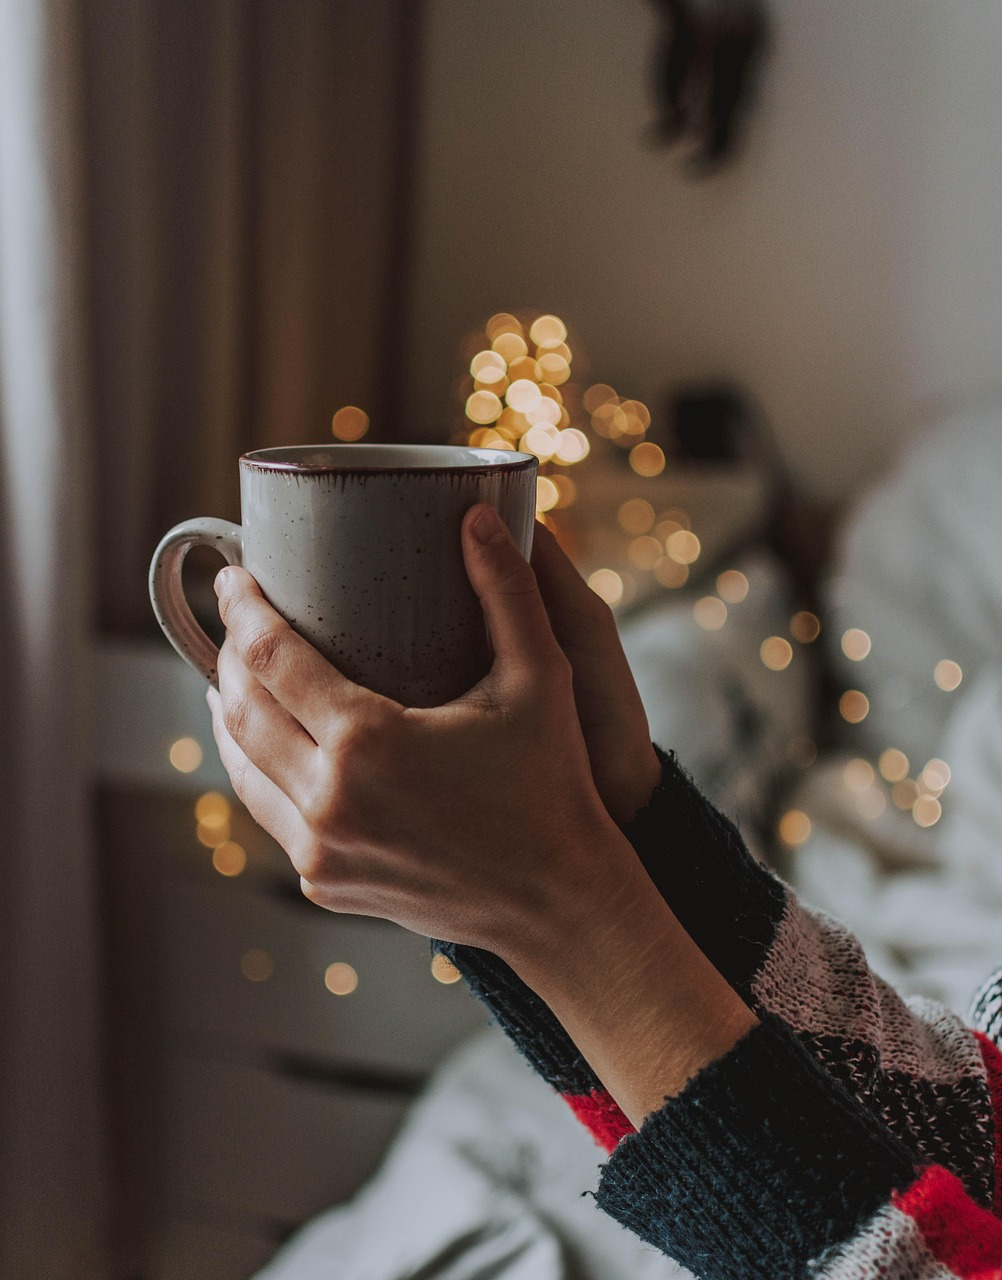mug: (113, 375, 603, 851)
